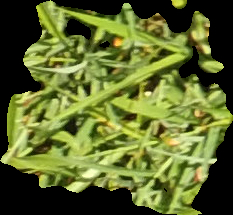grass: (1, 1, 232, 214)
